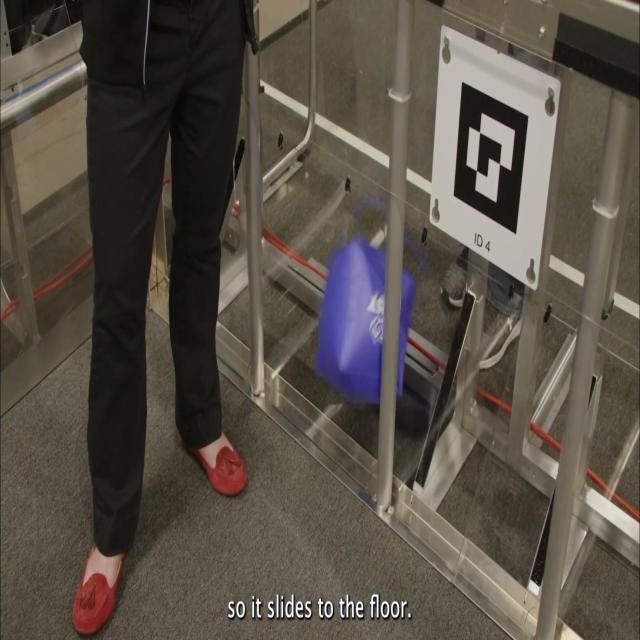frc_cube: (315, 237, 416, 401)
